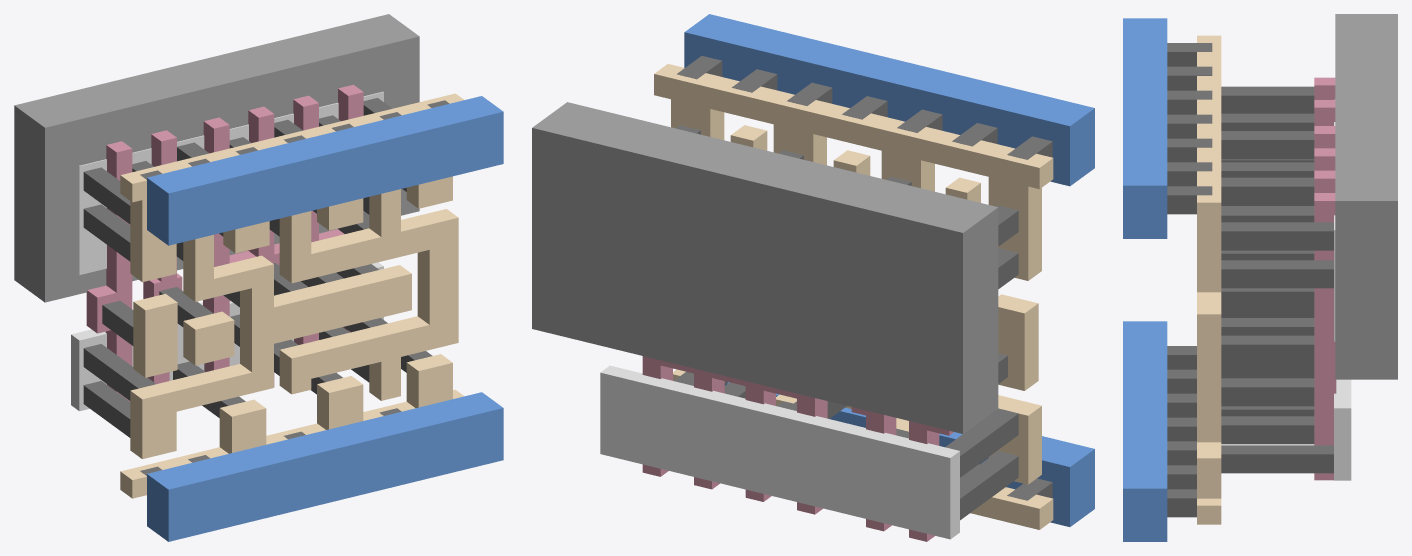
Rendered from sky130_fd_sc_hd__and2_4.gds.gltf.
The picture shows the model from 3 angles, left to right: view 1: azimuth 30°, elevation 25°; view 2: azimuth 150°, elevation 25°; view 3: azimuth 270°, elevation 25°; orthographic projection. The views are drawn at different scales.
Parts seen in each view (by area): view 1: sky130_fd_sc_hd__and2_4_li1, sky130_fd_sc_hd__and2_4_met1, sky130_fd_sc_hd__and2_4_nwell, sky130_fd_sc_hd__and2_4_licon, sky130_fd_sc_hd__and2_4_poly, sky130_fd_sc_hd__and2_4_diff, sky130_fd_sc_hd__and2_4_mcon; view 2: sky130_fd_sc_hd__and2_4_nwell, sky130_fd_sc_hd__and2_4_diff, sky130_fd_sc_hd__and2_4_li1, sky130_fd_sc_hd__and2_4_met1, sky130_fd_sc_hd__and2_4_licon, sky130_fd_sc_hd__and2_4_mcon, sky130_fd_sc_hd__and2_4_poly; view 3: sky130_fd_sc_hd__and2_4_licon, sky130_fd_sc_hd__and2_4_nwell, sky130_fd_sc_hd__and2_4_met1, sky130_fd_sc_hd__and2_4_mcon, sky130_fd_sc_hd__and2_4_li1, sky130_fd_sc_hd__and2_4_poly, sky130_fd_sc_hd__and2_4_diff.
Part boxes in pixels (x1=…): sky130_fd_sc_hd__and2_4_li1: x1=120, y1=93, x2=463, y2=498; sky130_fd_sc_hd__and2_4_met1: x1=147, y1=96, x2=503, y2=541; sky130_fd_sc_hd__and2_4_nwell: x1=14, y1=14, x2=419, y2=302; sky130_fd_sc_hd__and2_4_licon: x1=83, y1=98, x2=432, y2=437; sky130_fd_sc_hd__and2_4_poly: x1=86, y1=84, x2=363, y2=401; sky130_fd_sc_hd__and2_4_diff: x1=71, y1=91, x2=383, y2=411; sky130_fd_sc_hd__and2_4_mcon: x1=140, y1=100, x2=449, y2=475; sky130_fd_sc_hd__and2_4_nwell: x1=532, y1=102, x2=998, y2=433; sky130_fd_sc_hd__and2_4_diff: x1=600, y1=365, x2=959, y2=539; sky130_fd_sc_hd__and2_4_li1: x1=654, y1=64, x2=1053, y2=529; sky130_fd_sc_hd__and2_4_met1: x1=684, y1=14, x2=1094, y2=526; sky130_fd_sc_hd__and2_4_licon: x1=674, y1=125, x2=1018, y2=520; sky130_fd_sc_hd__and2_4_mcon: x1=677, y1=56, x2=1052, y2=500; sky130_fd_sc_hd__and2_4_poly: x1=642, y1=356, x2=953, y2=541; sky130_fd_sc_hd__and2_4_licon: x1=1221, y1=86, x2=1333, y2=473; sky130_fd_sc_hd__and2_4_nwell: x1=1335, y1=14, x2=1397, y2=379; sky130_fd_sc_hd__and2_4_met1: x1=1123, y1=18, x2=1167, y2=541; sky130_fd_sc_hd__and2_4_mcon: x1=1167, y1=43, x2=1212, y2=517; sky130_fd_sc_hd__and2_4_li1: x1=1197, y1=35, x2=1221, y2=524; sky130_fd_sc_hd__and2_4_poly: x1=1314, y1=77, x2=1336, y2=480; sky130_fd_sc_hd__and2_4_diff: x1=1334, y1=99, x2=1351, y2=480.
Bounding box in the file's own units: 3.6 × 3.2 × 2.24.
